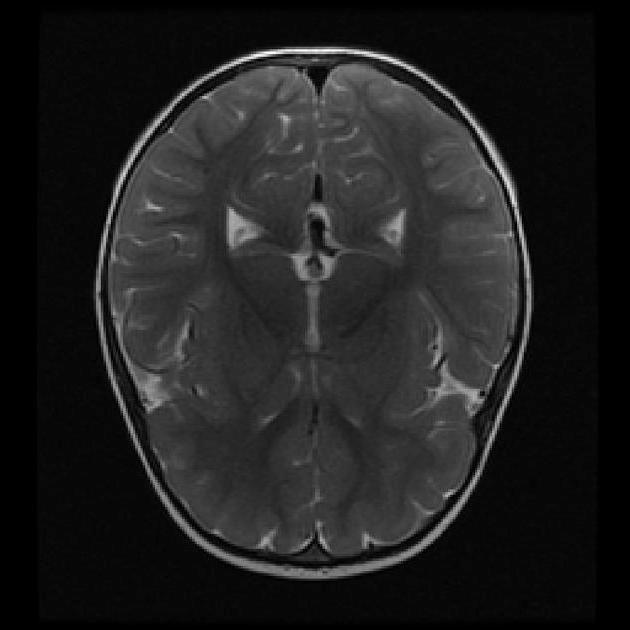Normal_Brain: (65, 1, 630, 630)
